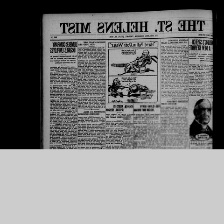news_paper: (38, 7, 216, 150)
